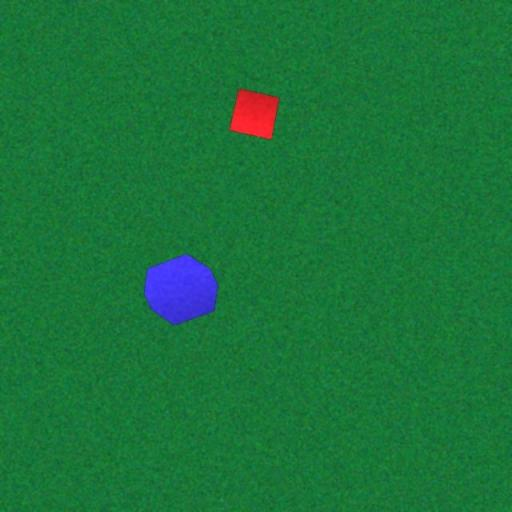RED_SQUARE: (229, 87, 280, 140)
